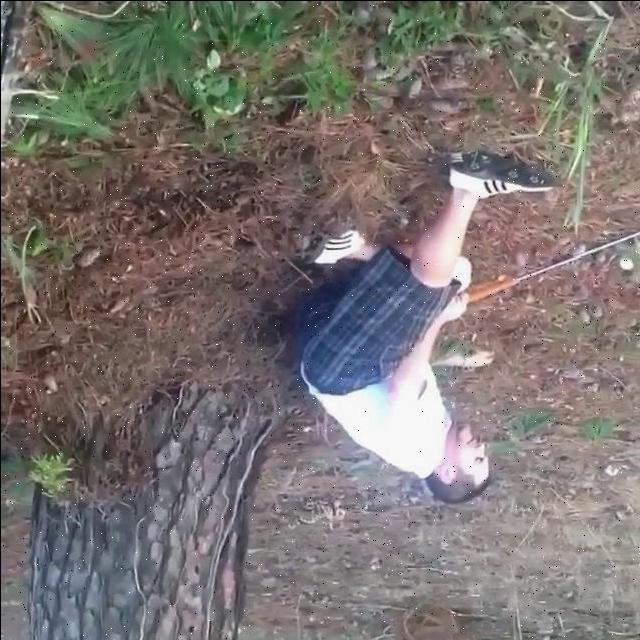golf club-handle: (467, 224, 640, 300)
